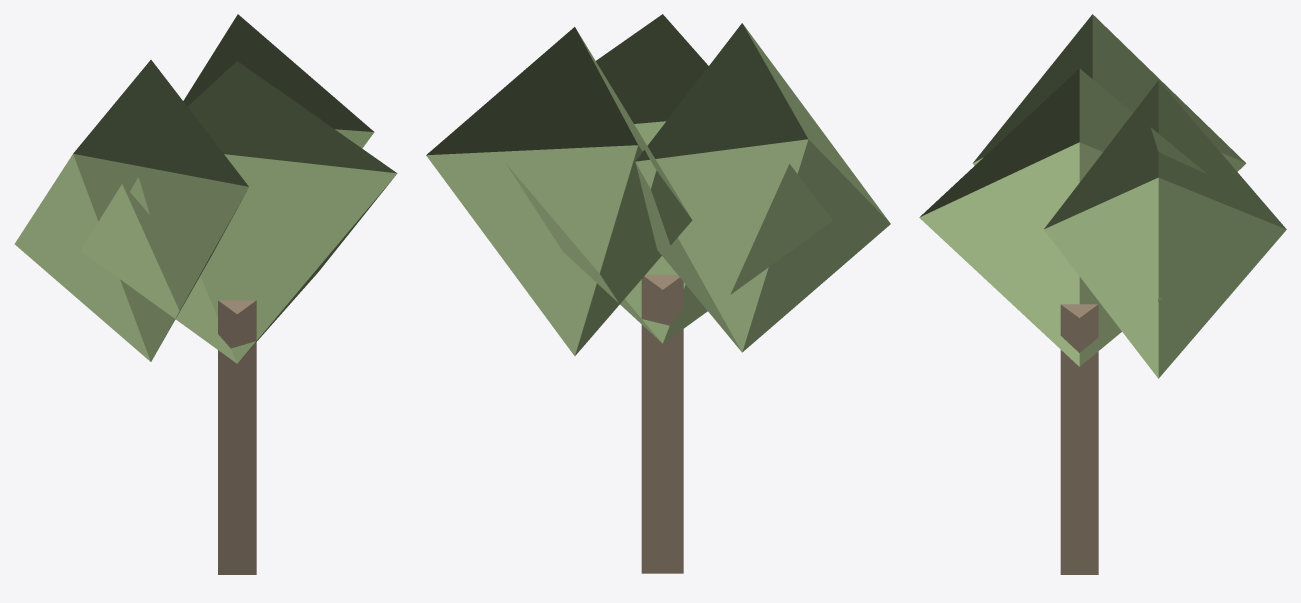
The model's file is sprout.temp.sapling__summer.glb.
3 views of the same model, side by side, from view 1: azimuth 30°, elevation 25°; view 2: azimuth 150°, elevation 25°; view 3: azimuth 270°, elevation 25° (orthographic). The views are drawn at different scales.
Visible parts, largest first — view 1: sprout.temp.sapling__summer; view 2: sprout.temp.sapling__summer; view 3: sprout.temp.sapling__summer.
Boxes of the visible parts, x1,y1,x2,y2 form: sprout.temp.sapling__summer: (14, 14, 397, 574); sprout.temp.sapling__summer: (426, 14, 890, 573); sprout.temp.sapling__summer: (919, 14, 1286, 574).
Bounding box in the file's own units: 0.93 × 1.21 × 0.7632.
